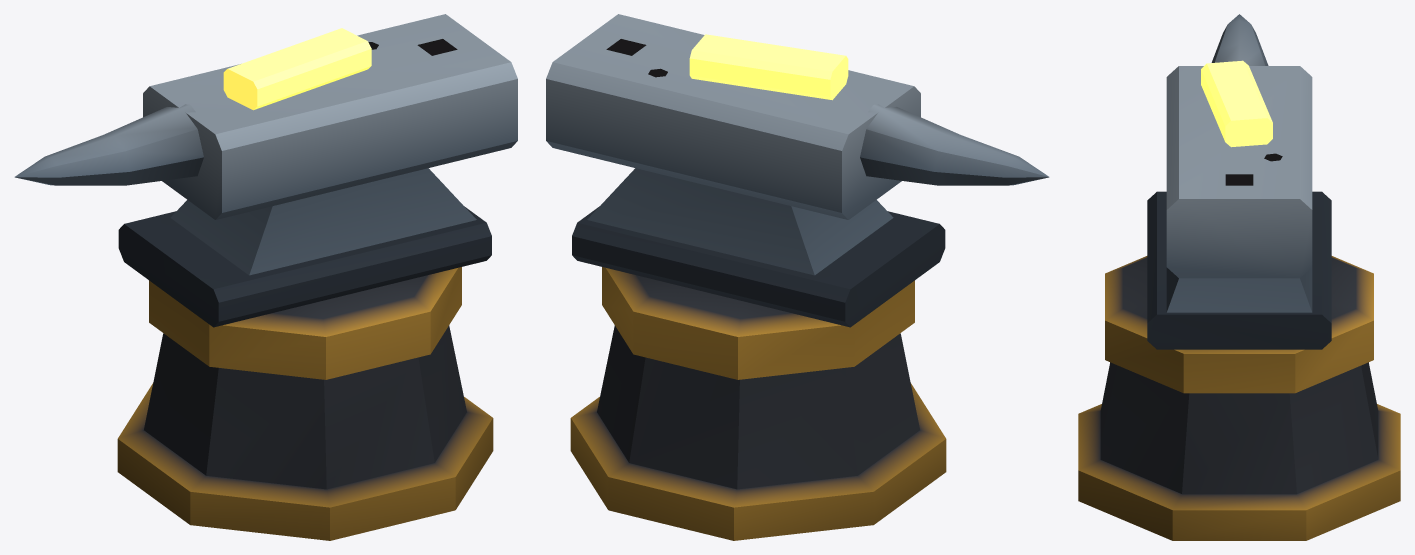
File: anvil.glb
The picture shows the model from 3 angles, left to right: view 1: azimuth 30°, elevation 25°; view 2: azimuth 150°, elevation 25°; view 3: azimuth 270°, elevation 25°; orthographic projection. The views are drawn at different scales.
Visible parts, largest first — view 1: anvil; view 2: anvil; view 3: anvil.
Part boxes in pixels (x1,y1,x2,y2): anvil: (14, 14, 517, 540); anvil: (546, 14, 1049, 540); anvil: (1078, 14, 1400, 540).
Bounding box in the file's own units: 1.02 × 0.86 × 0.6652.
